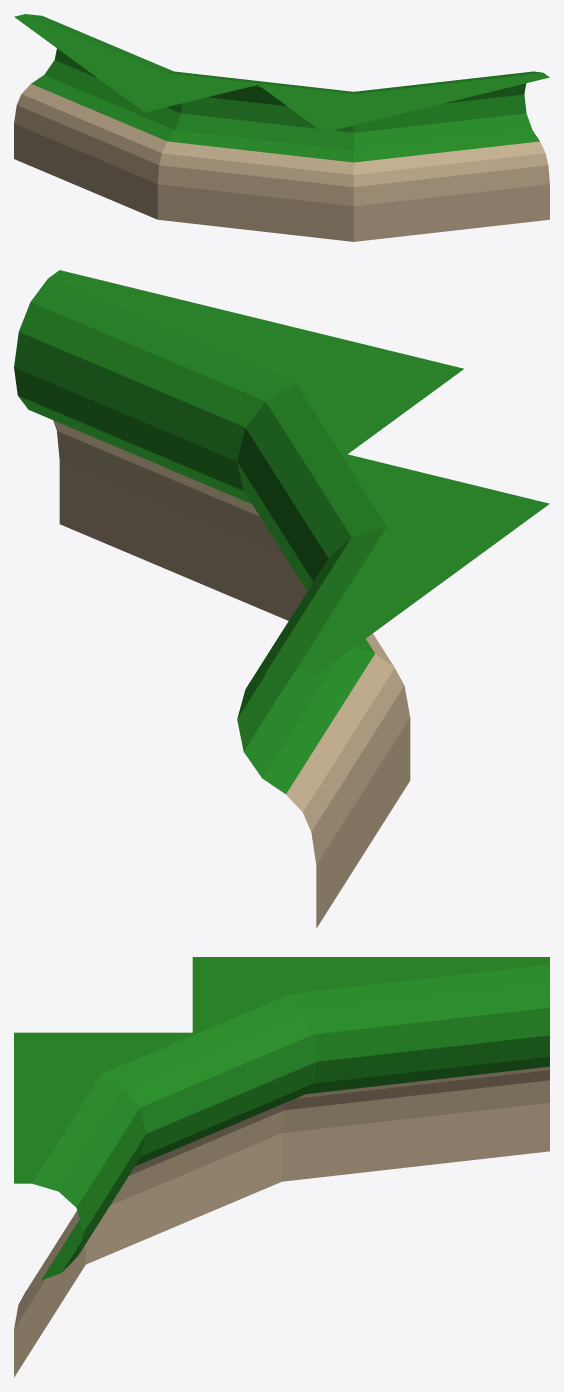
The model's file is Escarpment_Terrain_Corner_Inner_3x3_Top.obj.
The picture shows the model from 3 angles, top to bottom: view 1: azimuth 30°, elevation 25°; view 2: azimuth 150°, elevation 25°; view 3: azimuth 270°, elevation 25°; orthographic projection. The views are drawn at different scales.
Parts seen in each view (by area): view 1: object1; view 2: object1; view 3: object1.
Boxes of the visible parts, x1,y1,x2,y2 form: object1: (14, 14, 549, 241); object1: (14, 270, 549, 928); object1: (14, 957, 549, 1377).
Size of the model in its own units: 3 by 1.2 by 3.
